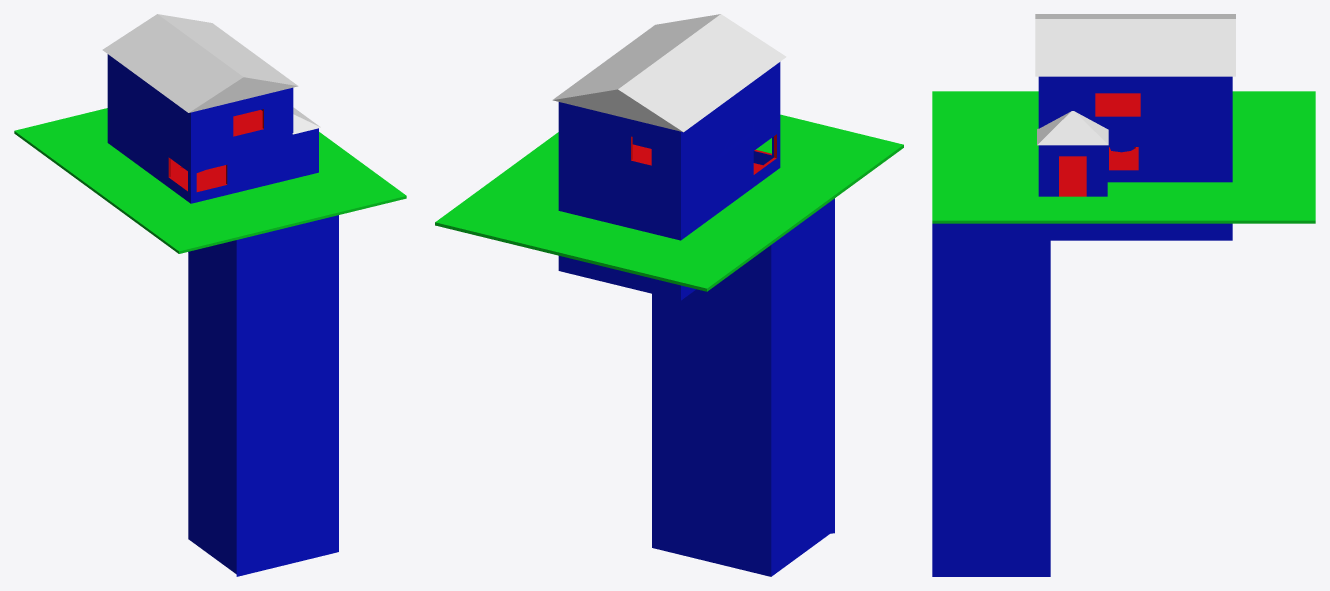
File: OddHouseBuilding.fbx
3 views of the same model, side by side, from view 1: azimuth 30°, elevation 25°; view 2: azimuth 150°, elevation 25°; view 3: azimuth 270°, elevation 25° (orthographic). The views are drawn at different scales.
Parts seen in each view (by area): view 1: Basement, Ground, Roof, BottomFloor, TopFloor; view 2: Basement, Ground, Roof, TopFloor, BottomFloor; view 3: Basement, Ground, Roof, BottomFloor, TopFloor, RoofBottomFloor.
Boxes of the visible parts, box(x1,y1,x2,y2) form: Basement: box(188, 170, 338, 576); Ground: box(14, 108, 406, 253); Roof: box(102, 14, 298, 112); BottomFloor: box(107, 98, 318, 203); TopFloor: box(107, 54, 293, 158); Basement: box(558, 198, 834, 576); Ground: box(435, 114, 903, 291); Roof: box(552, 14, 786, 132); TopFloor: box(558, 62, 780, 186); BottomFloor: box(558, 114, 780, 240); Basement: box(932, 147, 1232, 576); Ground: box(932, 91, 1315, 223); Roof: box(1035, 14, 1235, 76); BottomFloor: box(1038, 129, 1232, 196); TopFloor: box(1038, 76, 1232, 129); RoofBottomFloor: box(1037, 111, 1108, 145).
Size of the model in its own units: 890 by 1698 by 1115.
